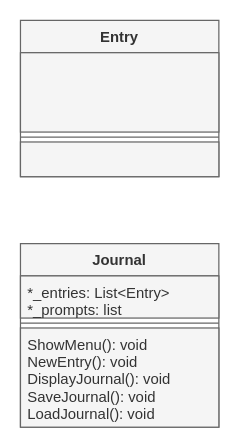
This 239x448 diagram has some shape labels left out. Each missing label, with the centre of its shape:
*_author: string *_prompt: string *_response: string *_date: string: pixel 119 91
Display(): void: pixel 119 159
